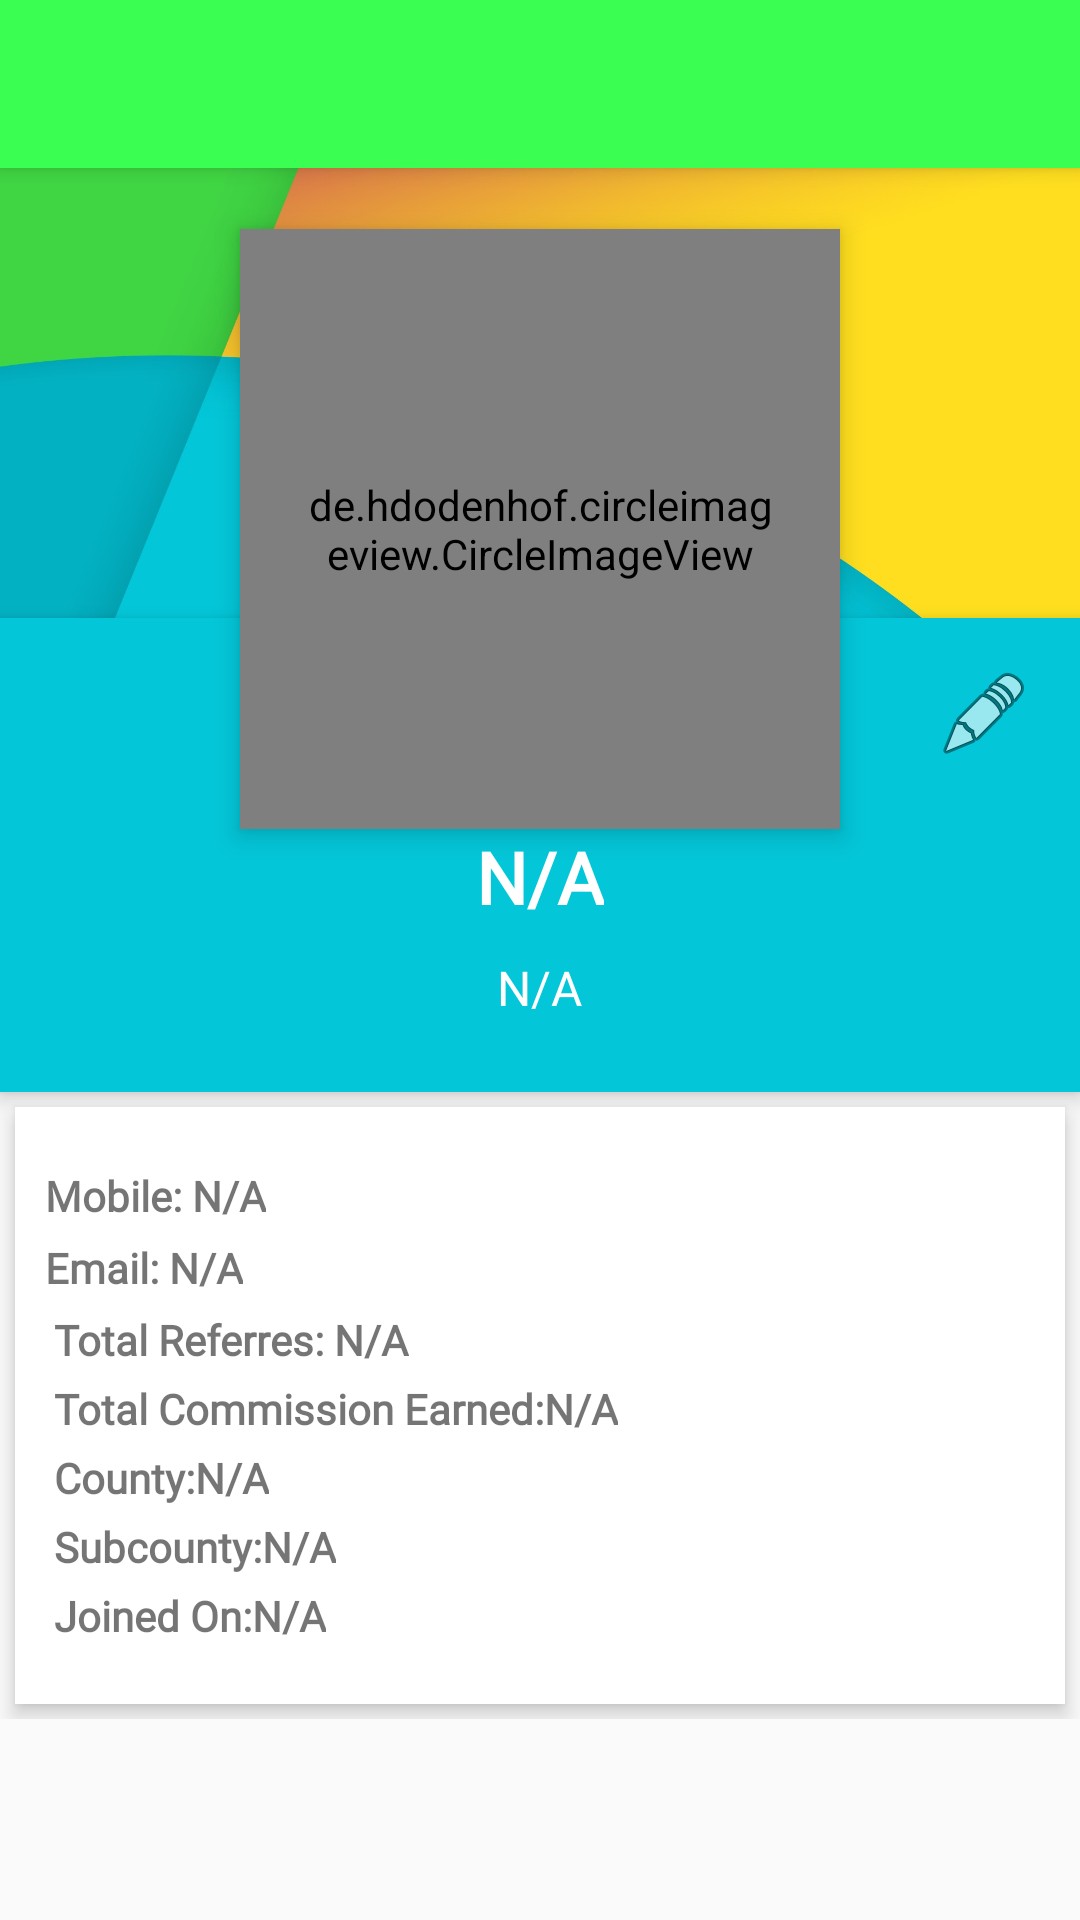

Icon bounding boxes for this 1080 x 1920 phone screenshot, format (x1, y1, x2, y2):
edit: (943, 673, 1024, 754)
